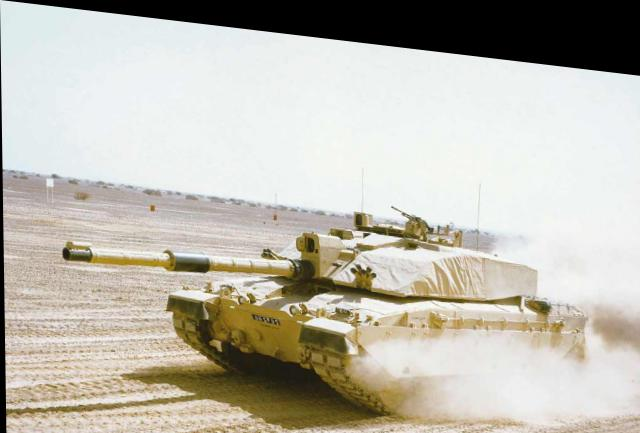tank: (173, 170, 591, 416)
